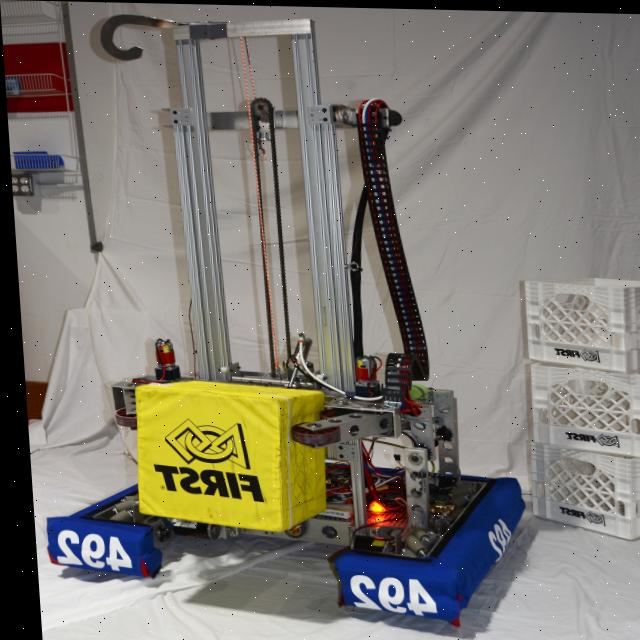robot: (11, 14, 528, 623)
